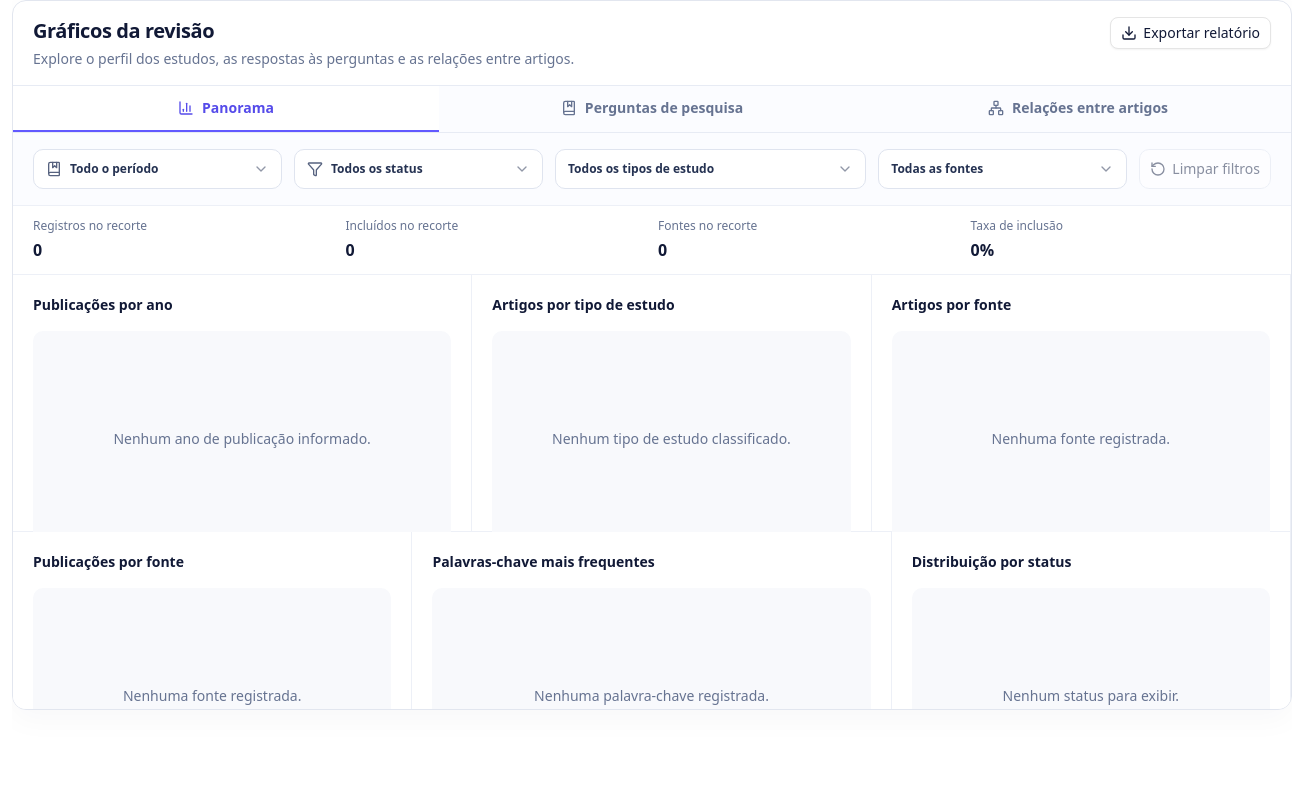
analytics workspace › separates general charts, question visualizations and article relationships in one workspace
Expected: the heading "Publicações por ano" is shown, [33, 295, 173, 315]
Expected: the dropdown labelled "período" is shown, [33, 149, 282, 189]
Click the button "Perguntas de pesquisa" at coordinates (652, 109), box [439, 86, 865, 132]
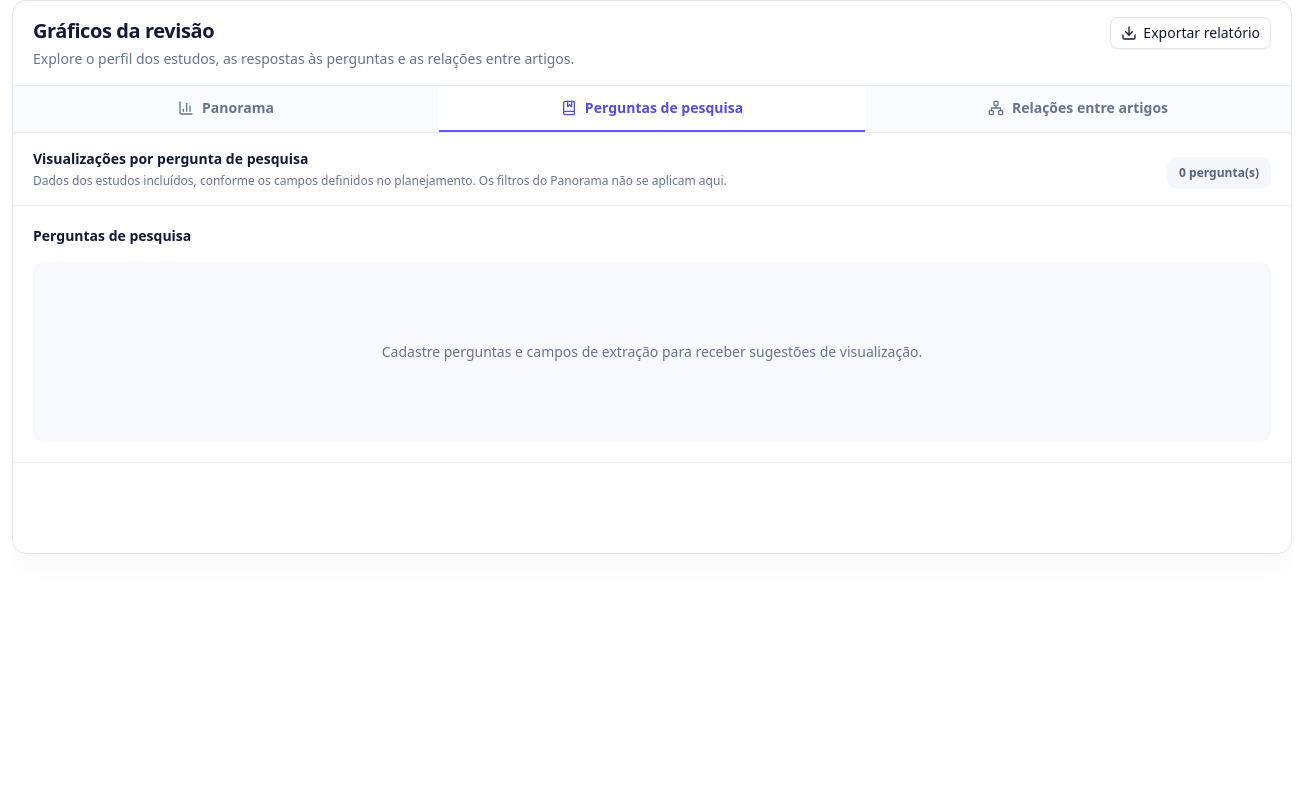
Expected: the heading "Publicações por ano" is gone
Expected: the text "Cadastre perguntas e campos" is shown, [382, 342, 922, 361]
Expected: the dropdown labelled "período" is gone
Click the button "Relações entre artigos" at coordinates (1078, 109), box [865, 86, 1291, 132]
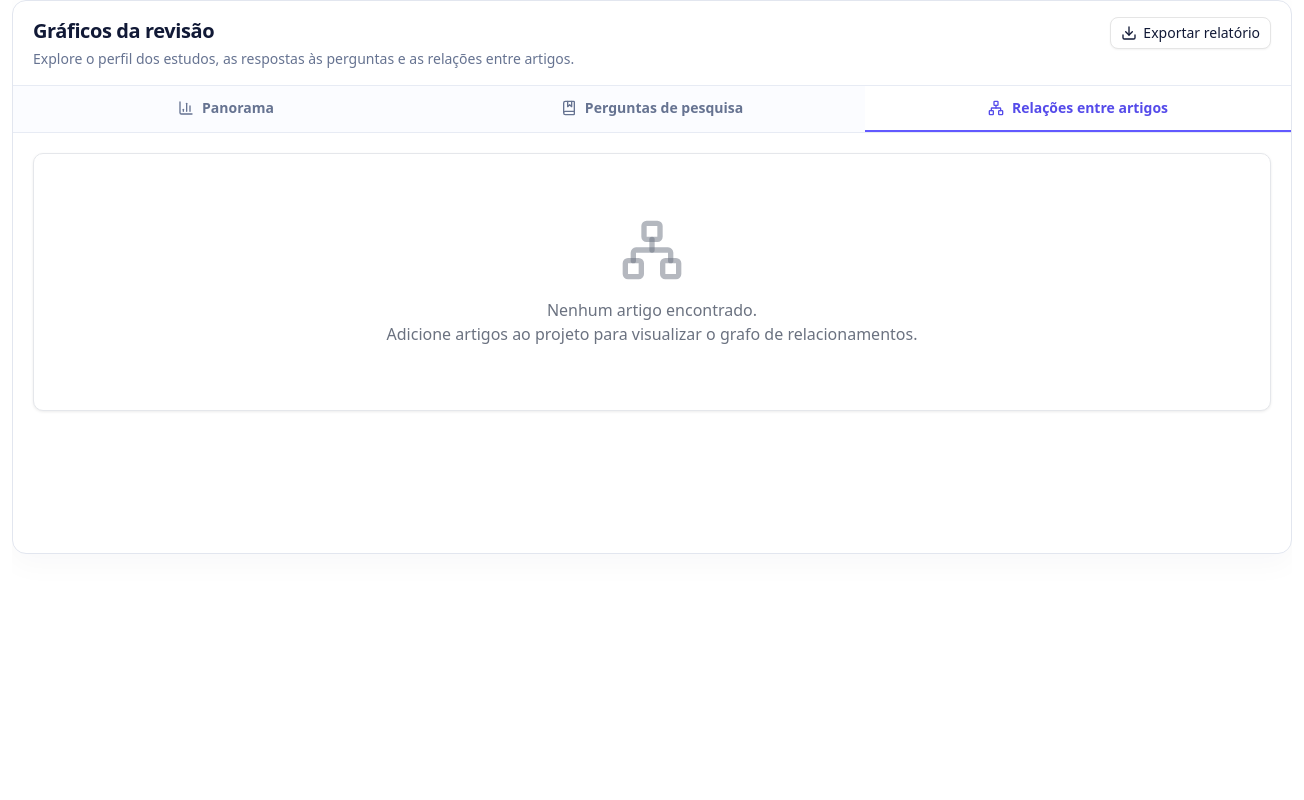
Expected: the text "Adicione artigos ao projeto" is shown, [386, 323, 917, 345]
Click the button "Panorama" at coordinates (226, 109), box [13, 86, 439, 132]
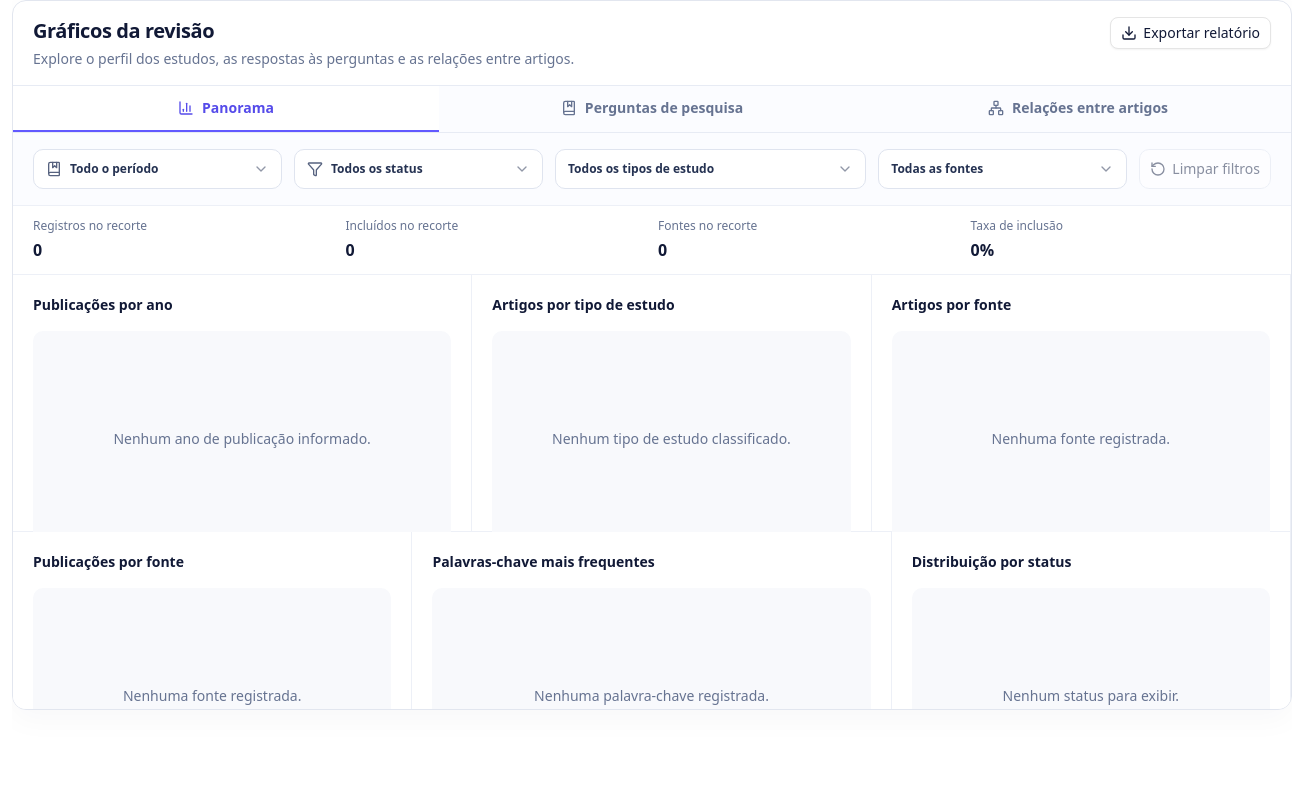
Expected: the heading "Publicações por ano" is shown, [33, 295, 173, 315]
